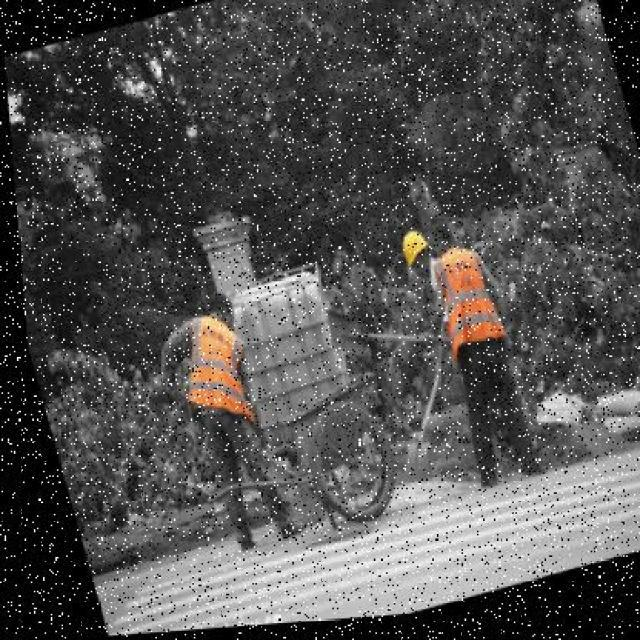helmet: (389, 229, 433, 289)
vest: (175, 311, 247, 424), (428, 246, 494, 351)
